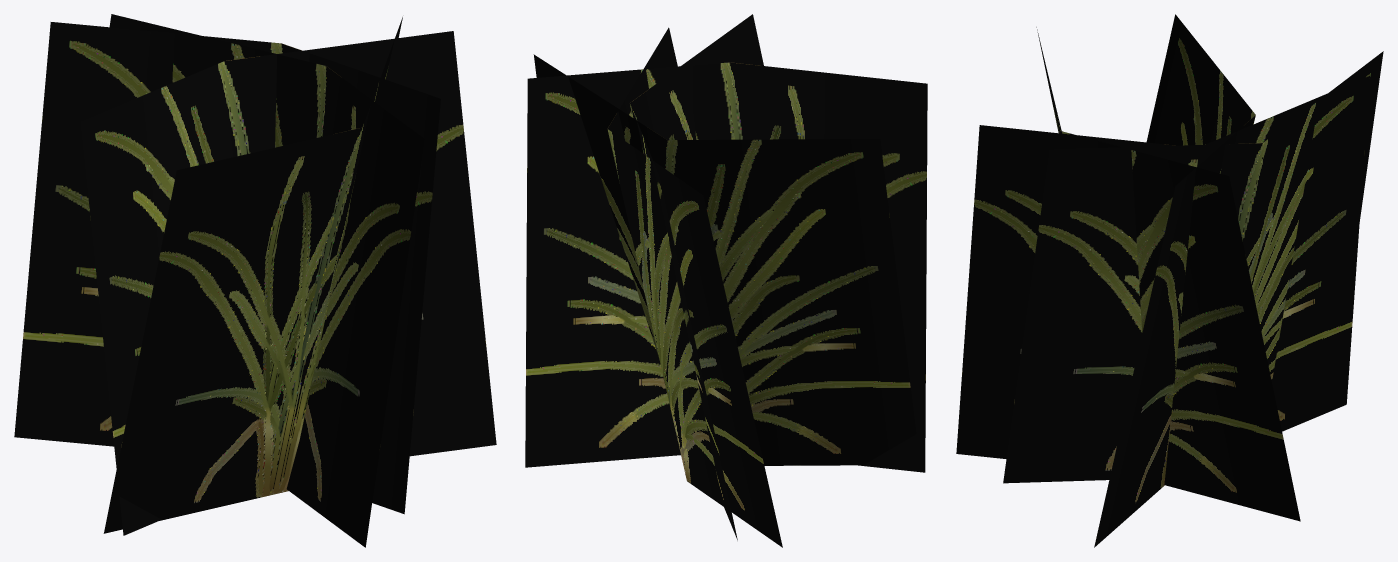
File: beach_grass.glb
The picture shows the model from 3 angles, left to right: view 1: azimuth 30°, elevation 25°; view 2: azimuth 150°, elevation 25°; view 3: azimuth 270°, elevation 25°; orthographic projection. The views are drawn at different scales.
Visible parts, largest first — view 1: BeachGrassOne200; view 2: BeachGrassOne200; view 3: BeachGrassOne200.
Boxes of the visible parts, x1=… form: BeachGrassOne200: x1=14, y1=14, x2=496, y2=547; BeachGrassOne200: x1=525, y1=14, x2=927, y2=547; BeachGrassOne200: x1=956, y1=14, x2=1383, y2=547.
Size of the model in its own units: 0.6081 by 0.6 by 0.6167.
1 material, 1 textured.
